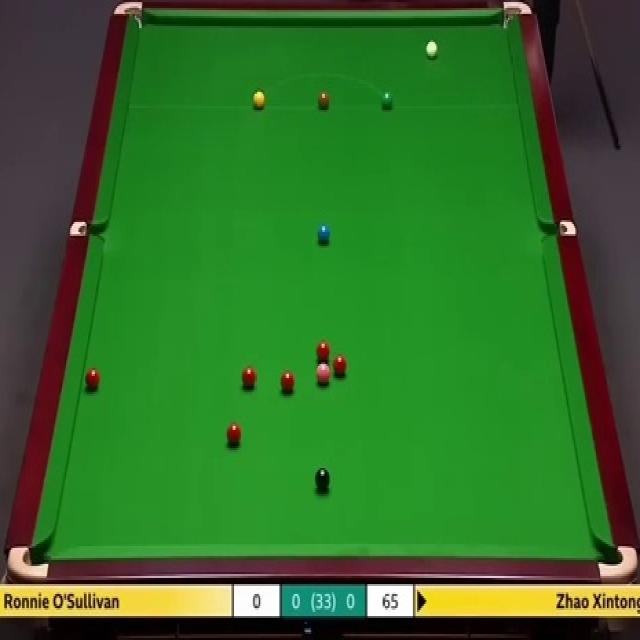black-ball: (315, 467, 331, 492)
blue-ball: (316, 222, 331, 245)
brown-ball: (317, 91, 330, 110)
green-ball: (381, 90, 393, 112)
pink-ball: (317, 362, 331, 385)
red-ball: (332, 354, 350, 380), (242, 364, 258, 392), (225, 422, 243, 446), (280, 370, 296, 397), (85, 367, 100, 392), (316, 339, 331, 364)
white-ball: (425, 39, 439, 62)
yellow-ball: (253, 88, 265, 108)
